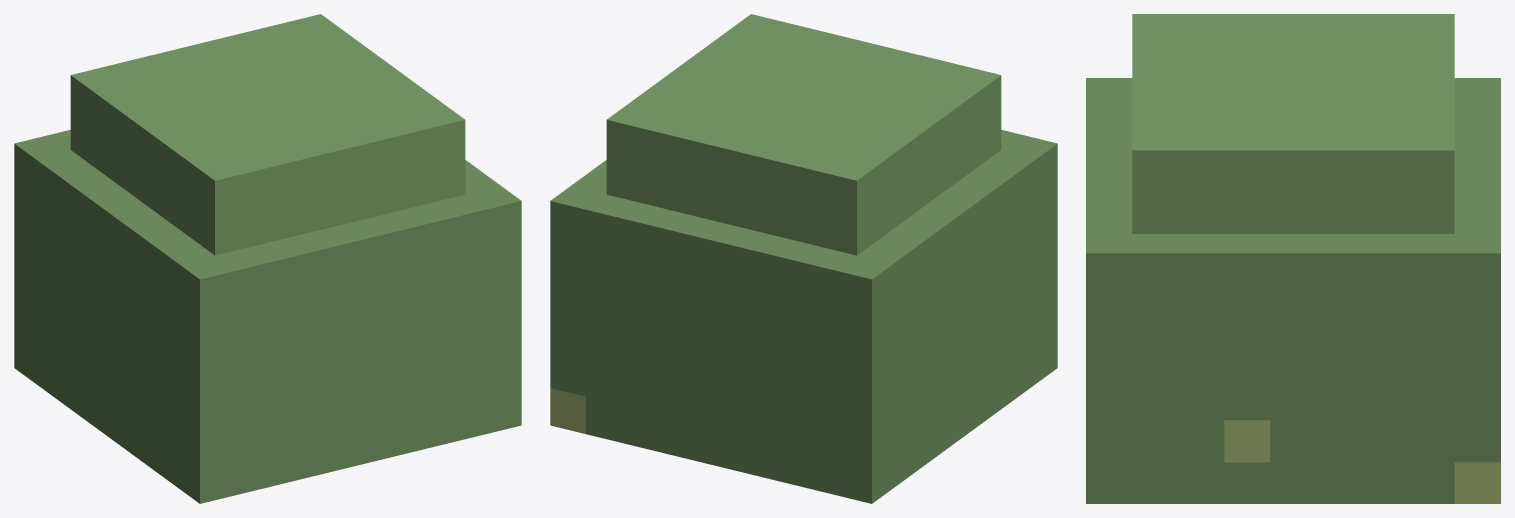
File: grosella_espinosa_03.glb
3 renders of one model, left to right at view 1: azimuth 30°, elevation 25°; view 2: azimuth 150°, elevation 25°; view 3: azimuth 270°, elevation 25°, orthographic. The views are drawn at different scales.
Parts seen in each view (by area): view 1: grosella_espinosa_03; view 2: grosella_espinosa_03; view 3: grosella_espinosa_03.
Boxes of the visible parts, x1,y1,x2,y2 form: grosella_espinosa_03: (14,14,521,503); grosella_espinosa_03: (550,14,1057,503); grosella_espinosa_03: (1086,14,1500,503).
Bounding box in the file's own units: 0.9 × 0.8 × 0.9.
